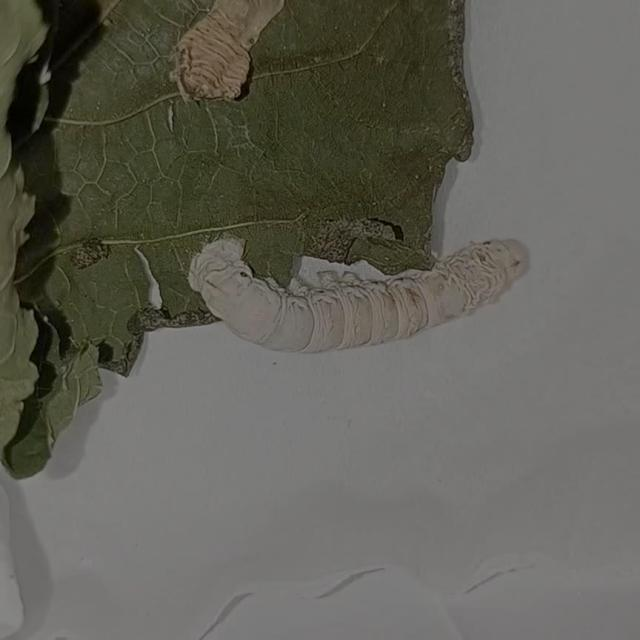Healthy: (169, 204, 554, 370)
